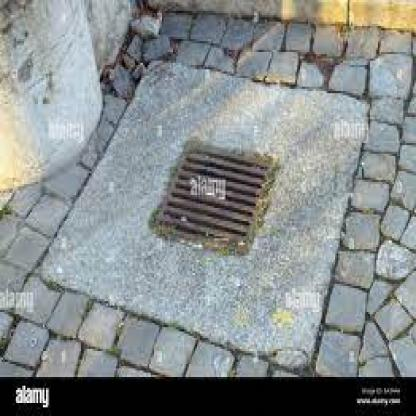closed manhole-not overflowing-: (123, 68, 328, 362)
